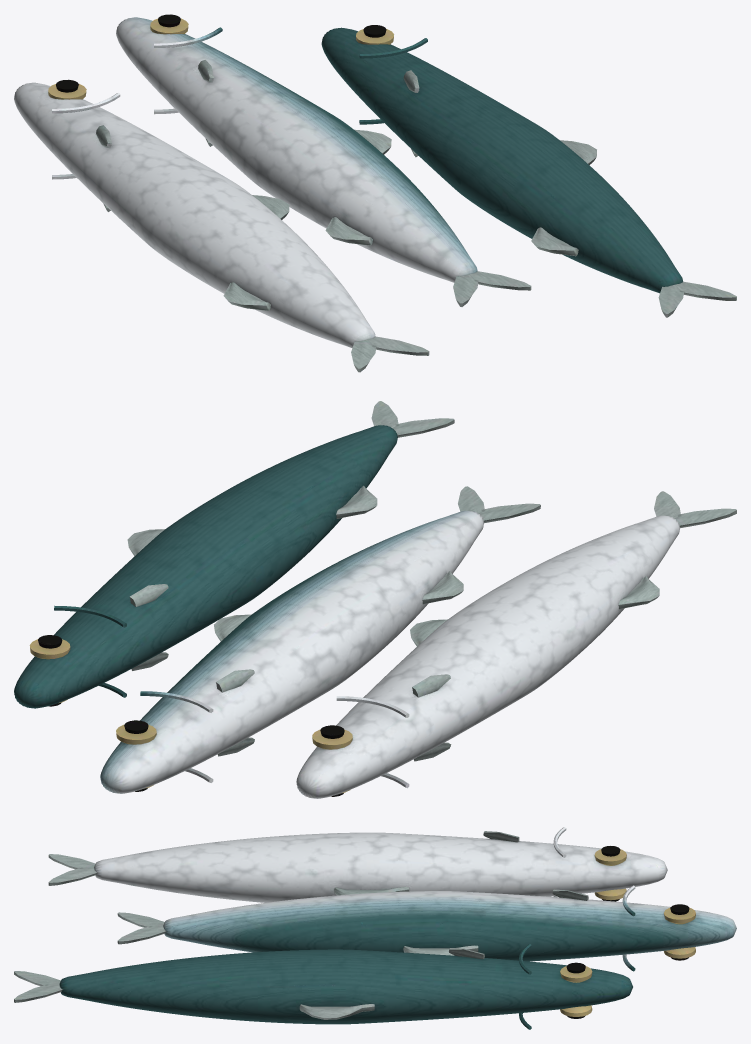
The model's file is fish_hamsa.glb.
3 views of the same model, one above another, from view 1: azimuth 30°, elevation 25°; view 2: azimuth 150°, elevation 25°; view 3: azimuth 270°, elevation 25° (orthographic). The views are drawn at different scales.
Visible parts, largest first — view 1: fish_hamsa; view 2: fish_hamsa; view 3: fish_hamsa.
Boxes of the visible parts, x1,y1,x2,y2 form: fish_hamsa: (14, 14, 736, 372); fish_hamsa: (14, 401, 736, 798); fish_hamsa: (14, 827, 736, 1029).
Size of the model in its own units: 0.0723 by 0.0121 by 0.1255.
1 material, 1 textured.
